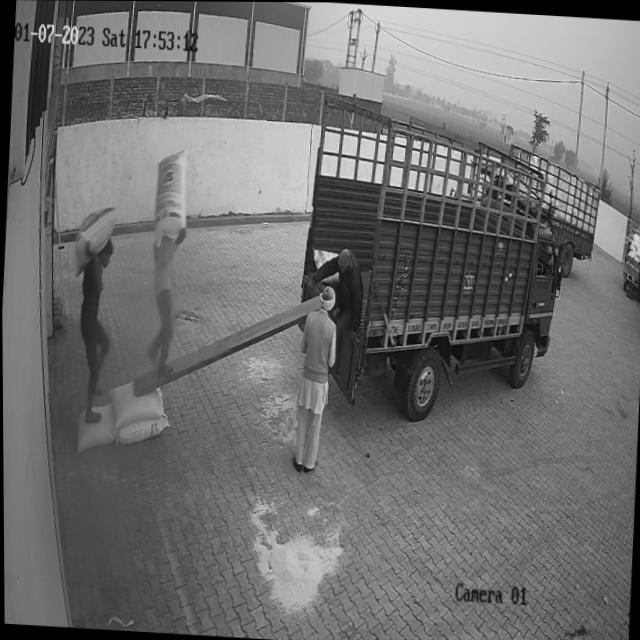sack: (152, 148, 188, 249), (73, 204, 116, 280), (107, 382, 164, 429), (74, 399, 117, 454), (116, 411, 168, 445)
